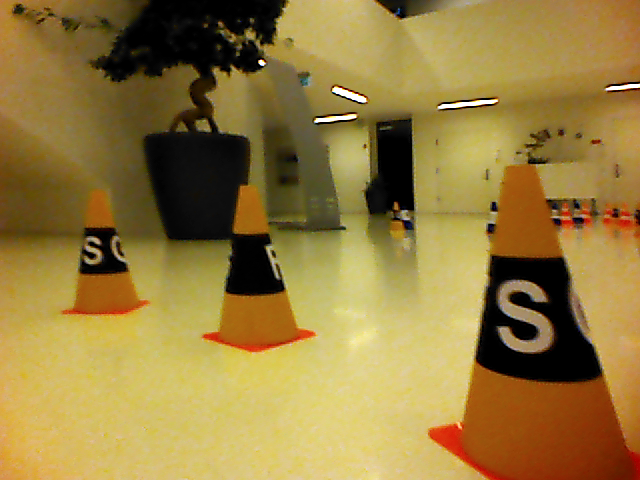yellowcone: (467, 164, 626, 477), (215, 184, 299, 345), (72, 189, 141, 312)
